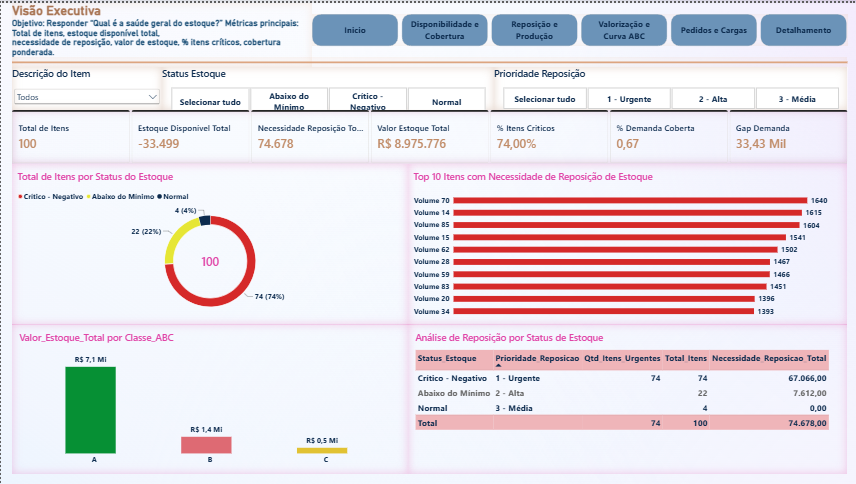

This screenshot's page, from the dashboard's own definition file:
{"tool":"powerbi","page":{"name":"Visão Executiva","canvas":[1920,1080],"ordinal":1},"visuals":[{"type":"textbox","box":[24,0,672,144],"z":0},{"type":"pageNavigator","box":[696,24,1200,72],"z":1},{"type":"shape","box":[24,120,1872,24],"z":2},{"type":"slicer","title":"Descrição do Item","fields":{"Values":["fEstoque.Descricao_do_Item"]},"box":[24,144,336,96],"z":3},{"type":"slicer","title":"Status Estoque","fields":{"Values":["fEstoque.Status_Estoque"]},"box":[360,144,744,96],"z":4},{"type":"slicer","title":"Prioridade Reposição","fields":{"Values":["fEstoque.Prioridade_Reposicao"]},"box":[1104,144,792,96],"z":5},{"type":"donutChart","title":"Total de Itens por Status do Estoque","fields":{"Category":["fEstoque.Status_Estoque"],"Y":["_Medidas.Total_Itens"]},"box":[24,360,888,360],"z":7},{"type":"barChart","title":"Top 10 Itens com Necessidade de Reposição de Estoque","fields":{"Category":["fEstoque.Descricao_do_Item"],"Y":["_Medidas.Necessidade_Reposicao_Total"]},"box":[912,360,984,360],"z":8},{"type":"columnChart","fields":{"Category":["fEstoque.Classe_ABC"],"Y":["_Medidas.Valor_Estoque_Total"]},"box":[24,720,888,336],"z":9},{"type":"tableEx","title":"Análise de Reposição por Status de Estoque","fields":{"Values":["fEstoque.Status_Estoque","fEstoque.Prioridade_Reposicao","_Medidas.Qtd_Itens_Urgentes","_Medidas.Total_Itens","_Medidas.Necessidade_Reposicao_Total"]},"box":[912,720,984,336],"z":10},{"type":"cardVisual","fields":{"Data":["_Medidas.Total_Itens","_Medidas.Estoque_Disponivel_Total","_Medidas.Necessidade_Reposicao_Total","_Medidas.Valor_Estoque_Total","_Medidas.%_Itens_Criticos","_Medidas.Cobertura_Real","_Medidas.Gap_Demanda"]},"box":[24,240,1872,120],"z":11}]}

Visuals, with their boxes in screenshot pixels (x1, y1, x2, y2), scaled from the page's 1920x1080 canvas onto the 856x484 screenshot:
textbox: x1=11, y1=0, x2=310, y2=65
pageNavigator: x1=310, y1=11, x2=845, y2=43
shape: x1=11, y1=54, x2=845, y2=65
"Descrição do Item" slicer: x1=11, y1=65, x2=160, y2=108
"Status Estoque" slicer: x1=160, y1=65, x2=492, y2=108
"Prioridade Reposição" slicer: x1=492, y1=65, x2=845, y2=108
"Total de Itens por Status do Estoque" donutChart: x1=11, y1=161, x2=407, y2=323
"Top 10 Itens com Necessidade de Reposição de Estoque" barChart: x1=407, y1=161, x2=845, y2=323
columnChart - fEstoque.Classe_ABC x _Medidas.Valor_Estoque_Total: x1=11, y1=323, x2=407, y2=473
"Análise de Reposição por Status de Estoque" tableEx: x1=407, y1=323, x2=845, y2=473
cardVisual - _Medidas.Total_Itens x _Medidas.Estoque_Disponivel_Total: x1=11, y1=108, x2=845, y2=161
